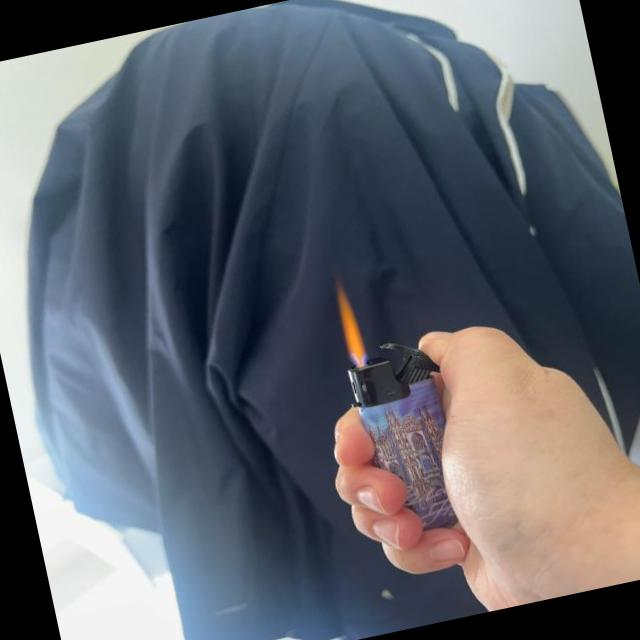Fire: (330, 282, 372, 366)
